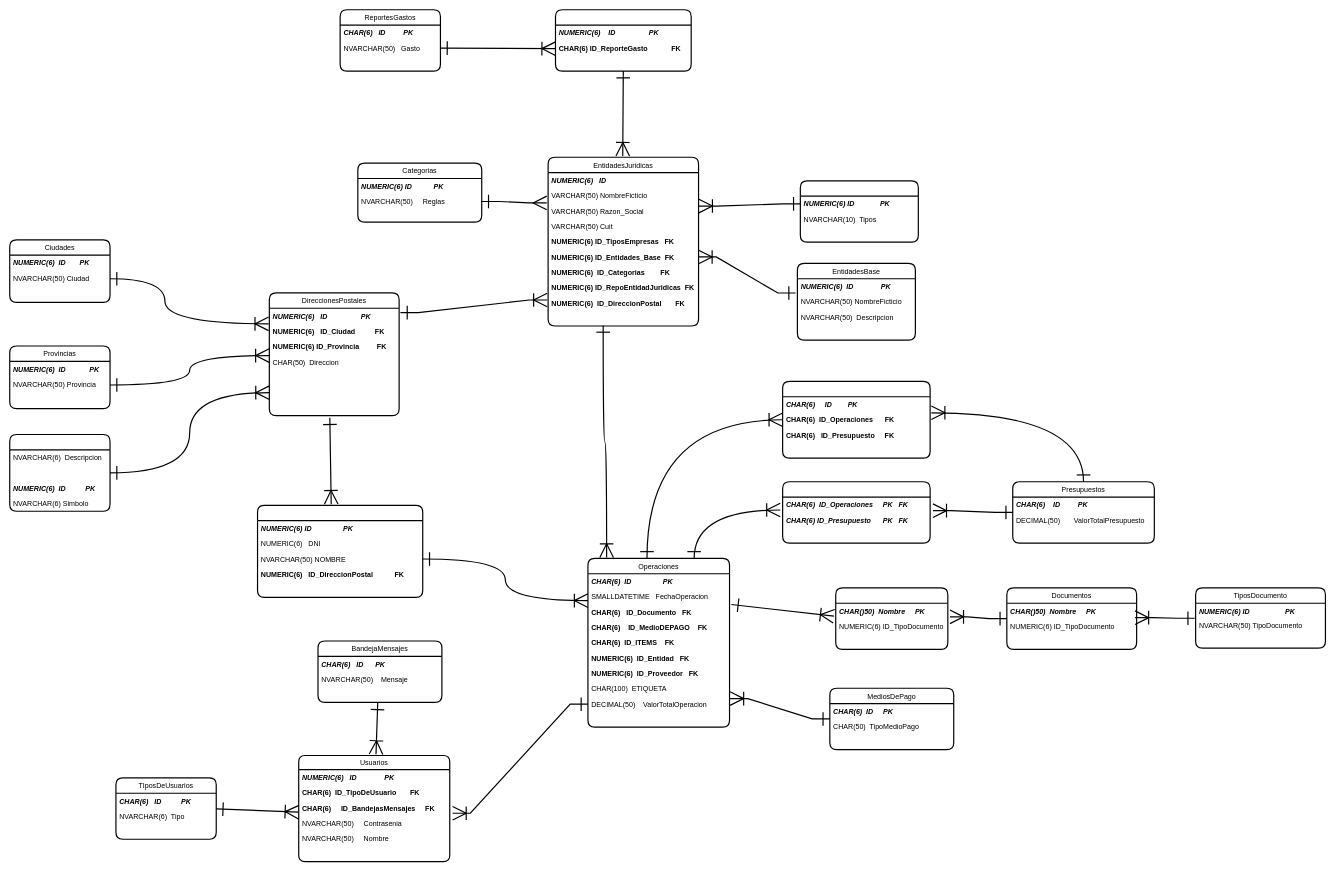
The diagram is 1335 pixels wide and 871 high, and some of its shapes have lost their labels. Here are the shapes that lost their labels. From the top down, the box of each, then its label:
(555, 9, 691, 71): RepositoriosEntidadesJuridicas
(799, 180, 919, 242): TiposEmpresas
(782, 381, 930, 458): Items
(9, 434, 110, 512): MonedasInfo
(782, 481, 930, 543): OperacionesXPresupuesto
(257, 504, 423, 598): Proveedores
(835, 587, 948, 650): OperacionesXDocumento
